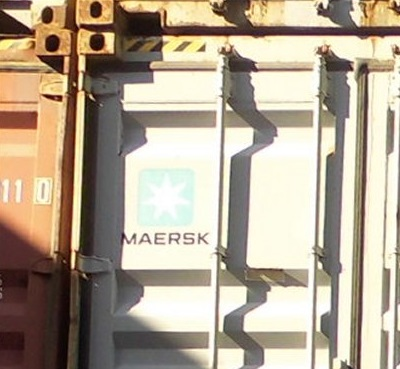container_door: (74, 30, 399, 368)
